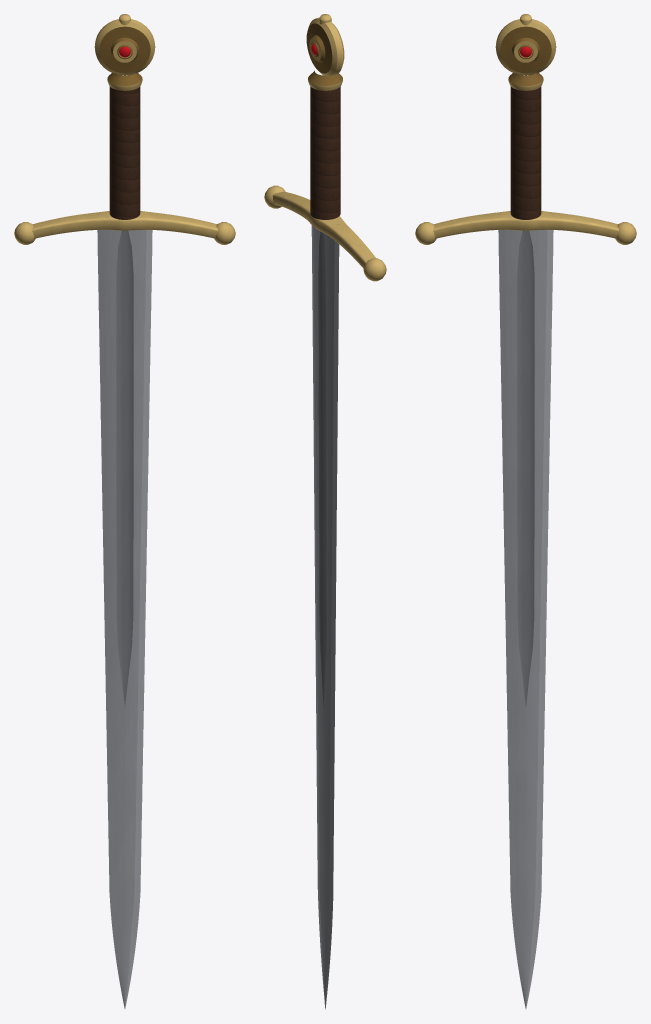
Rendered from oathbrand.glb.
3 views of the same model, side by side, from view 1: azimuth 90°, elevation 25°; view 2: azimuth 210°, elevation 25°; view 3: azimuth 270°, elevation 25° (orthographic).
Parts seen in each view (by area): view 1: blade, blade_edge, blade_fuller, grip, guard, pommel_recess, pommel_raised, guard_caps, pommel; view 2: blade, blade_edge, blade_fuller, grip, guard, pommel_recess, pommel_raised, guard_caps, pommel; view 3: blade, blade_edge, blade_fuller, grip, guard, pommel_recess, pommel_raised, guard_caps, pommel.
Boxes of the visible parts, x1,y1,x2,y2 form: blade: [103, 230, 146, 1008]; blade_edge: [97, 214, 152, 1007]; blade_fuller: [116, 230, 133, 706]; grip: [109, 86, 140, 219]; guard: [32, 211, 217, 238]; pommel_recess: [99, 26, 150, 85]; pommel_raised: [94, 14, 155, 90]; guard_caps: [14, 222, 235, 244]; pommel: [95, 22, 154, 75]; blade: [313, 226, 334, 1007]; blade_edge: [311, 225, 339, 1009]; blade_fuller: [318, 231, 327, 706]; grip: [310, 87, 340, 219]; guard: [272, 191, 375, 268]; pommel_recess: [306, 23, 342, 85]; pommel_raised: [308, 14, 343, 90]; guard_caps: [264, 185, 386, 281]; pommel: [308, 18, 344, 76]; blade: [504, 230, 547, 1008]; blade_edge: [498, 214, 553, 1007]; blade_fuller: [517, 230, 534, 706]; grip: [510, 86, 541, 219]; guard: [433, 211, 618, 238]; pommel_recess: [500, 26, 551, 85]; pommel_raised: [495, 14, 556, 90]; guard_caps: [415, 222, 636, 244]; pommel: [496, 22, 555, 75].
Bounding box in the file's own units: 0.0316 × 0.9905 × 0.2.
Materials: 9 (8 with a texture image).
